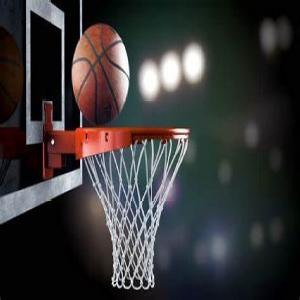Basket: (72, 23, 130, 127)
